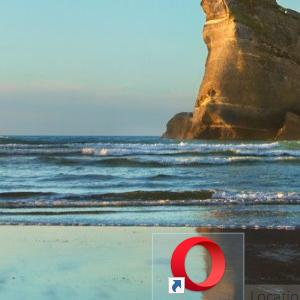opera: (168, 237, 226, 294)
